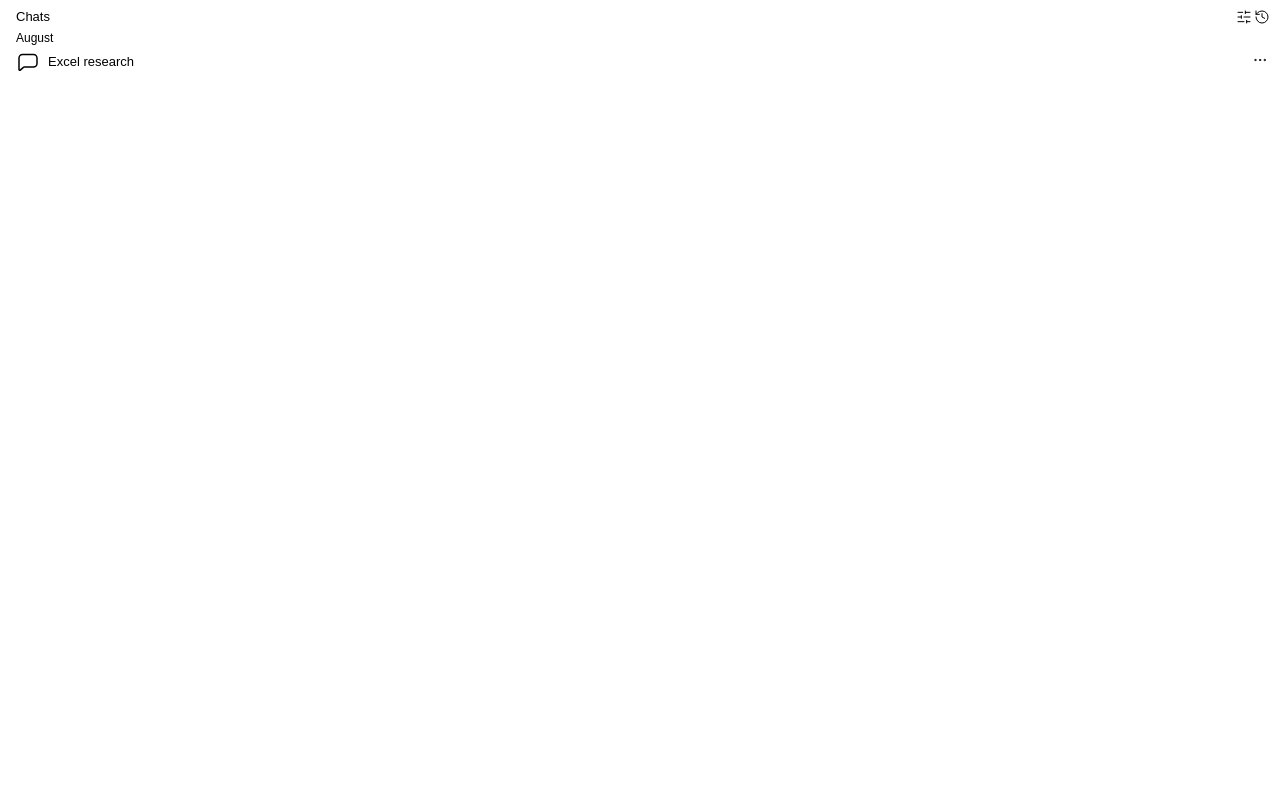
Test: focus when the Delete dialog closes (V1-R8-1) › gives it back to the row’s ⋯ after a pointer pick in the ⋯ menu and Escape
Press the mouse on the button with test id "recent-chat-more-20260823_2": (1260, 60) [1252,52,1268,68]
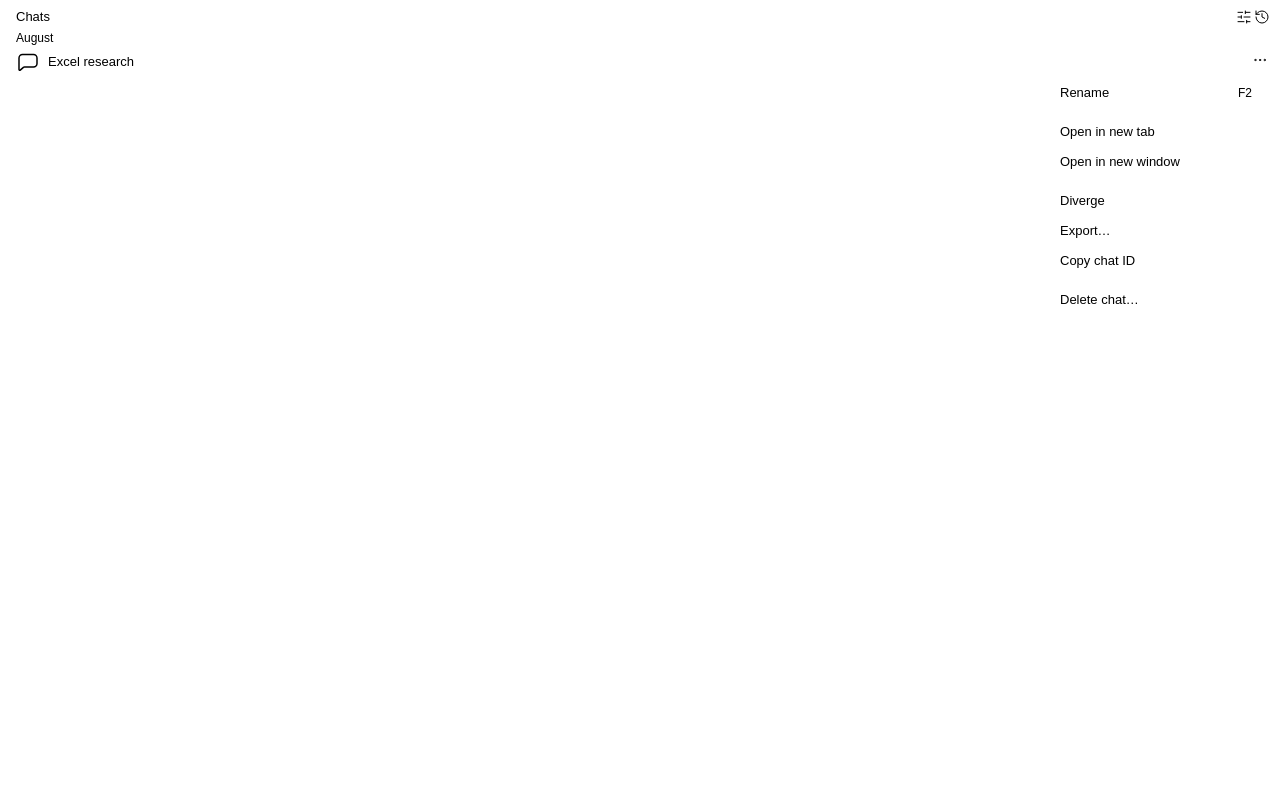
Click the menu item "Delete chat…": click(1099, 300) [1060,292,1139,307]
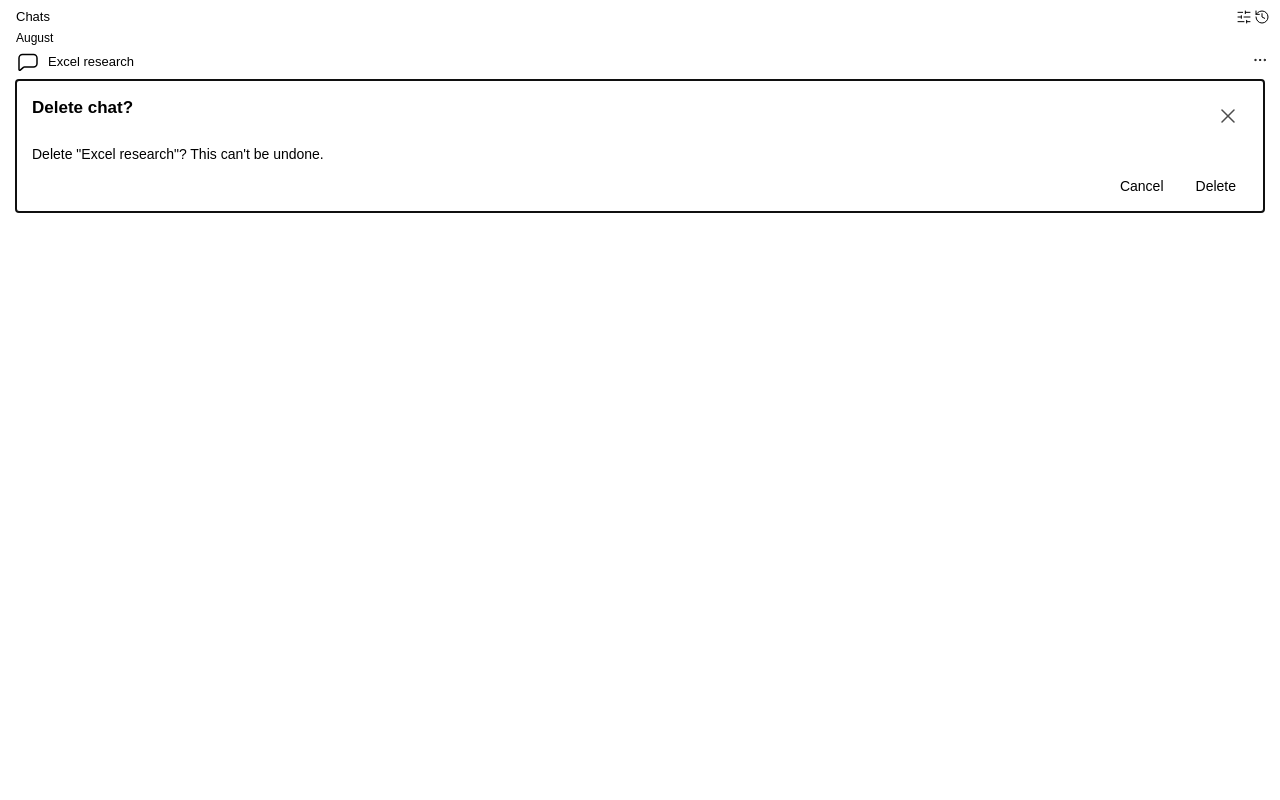
Press Escape in the dialog, box [16,80,1264,212]
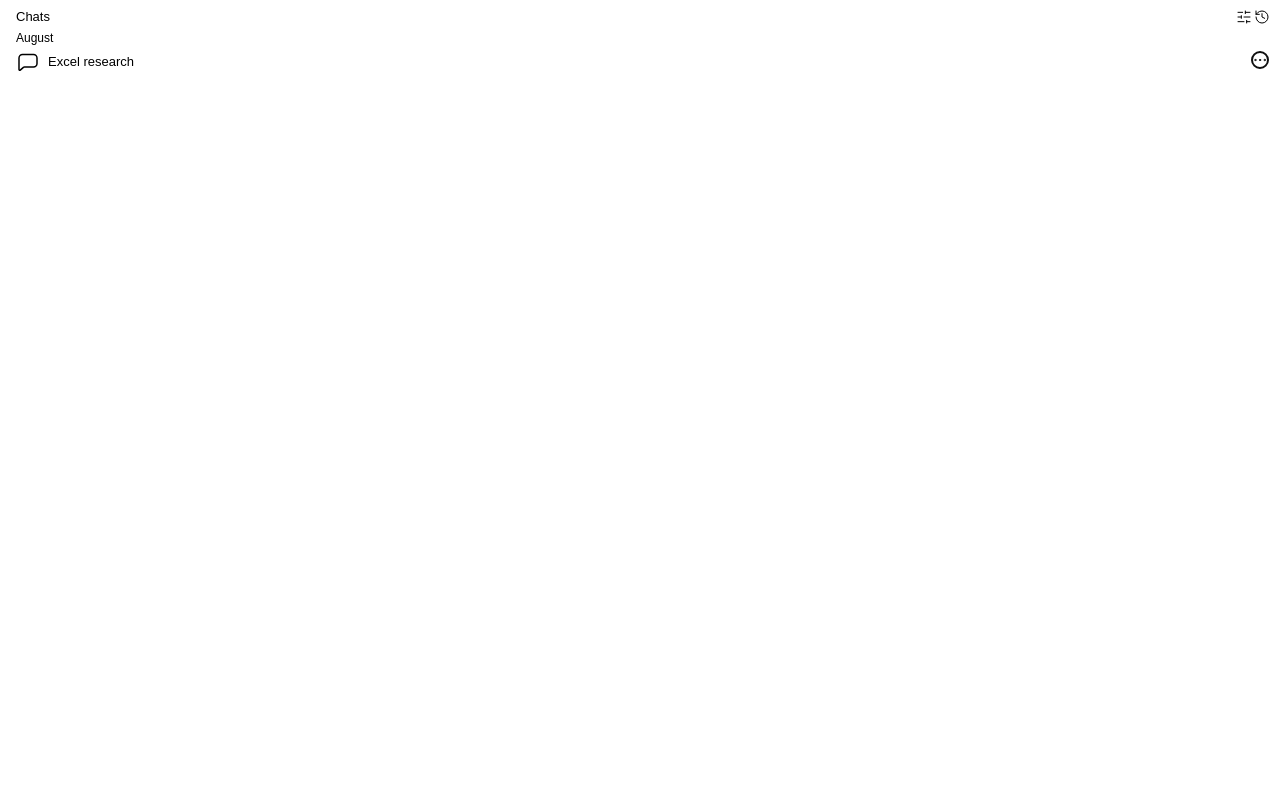
Check: the dialog is gone
